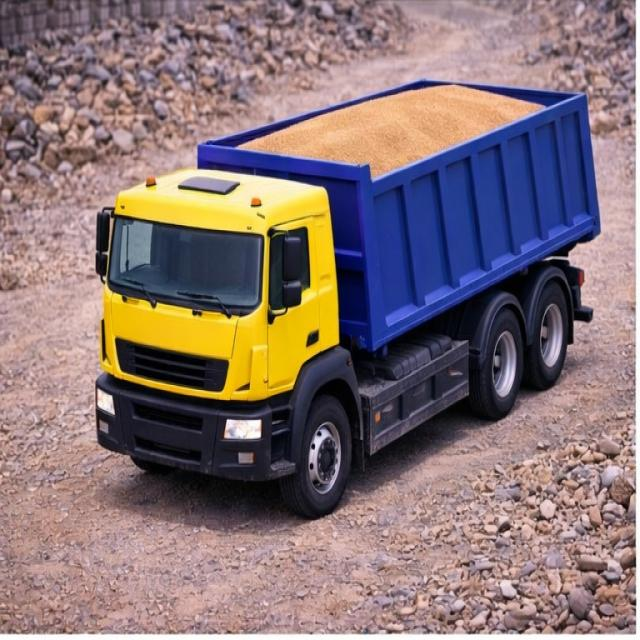Box: (201, 77, 584, 182)
Truck: (93, 64, 614, 518)
